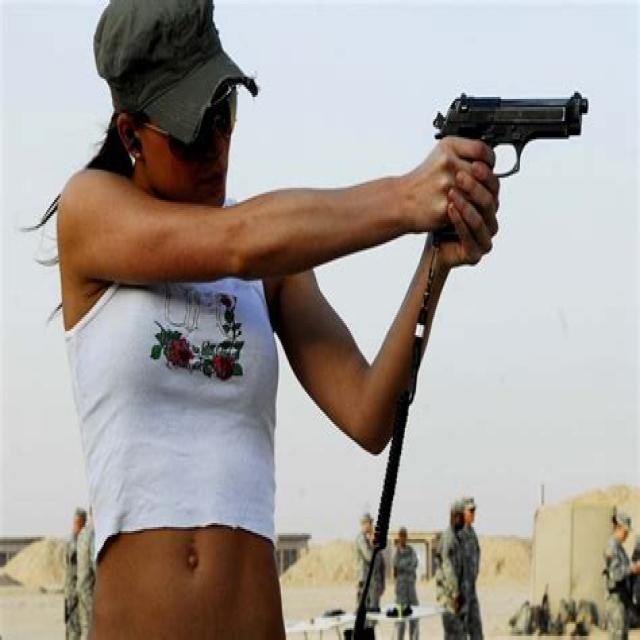weapons: (423, 69, 596, 236)
